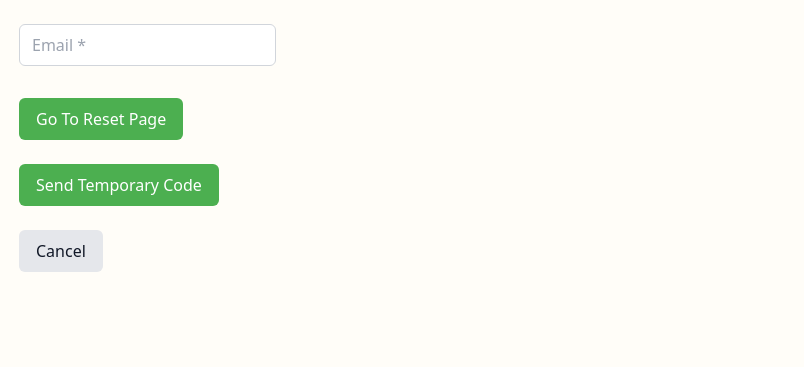
ForgotPasswordForm › shows error when email is not found
Type "missing@example.com" into the field named "Email*" at point(148, 45), box [19,24,276,66]
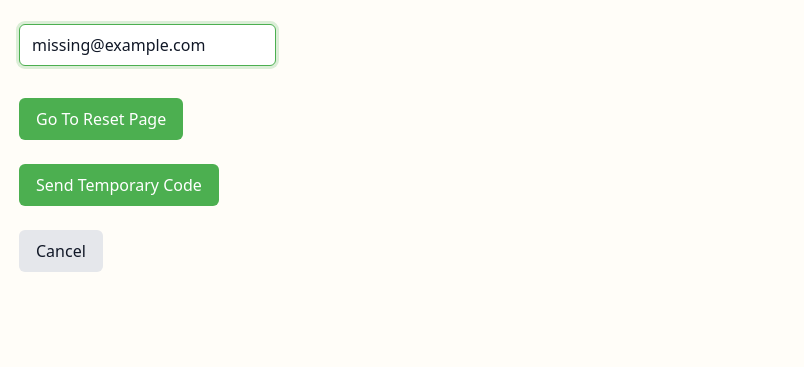
Click the button "Send Temporary Code" at point(119, 185), box [19,164,219,206]
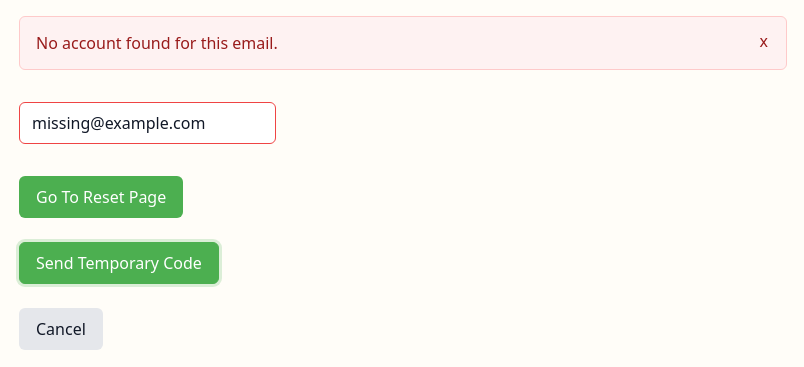
Expected: the text "No account found for this email." is shown, [36,31,278,55]
